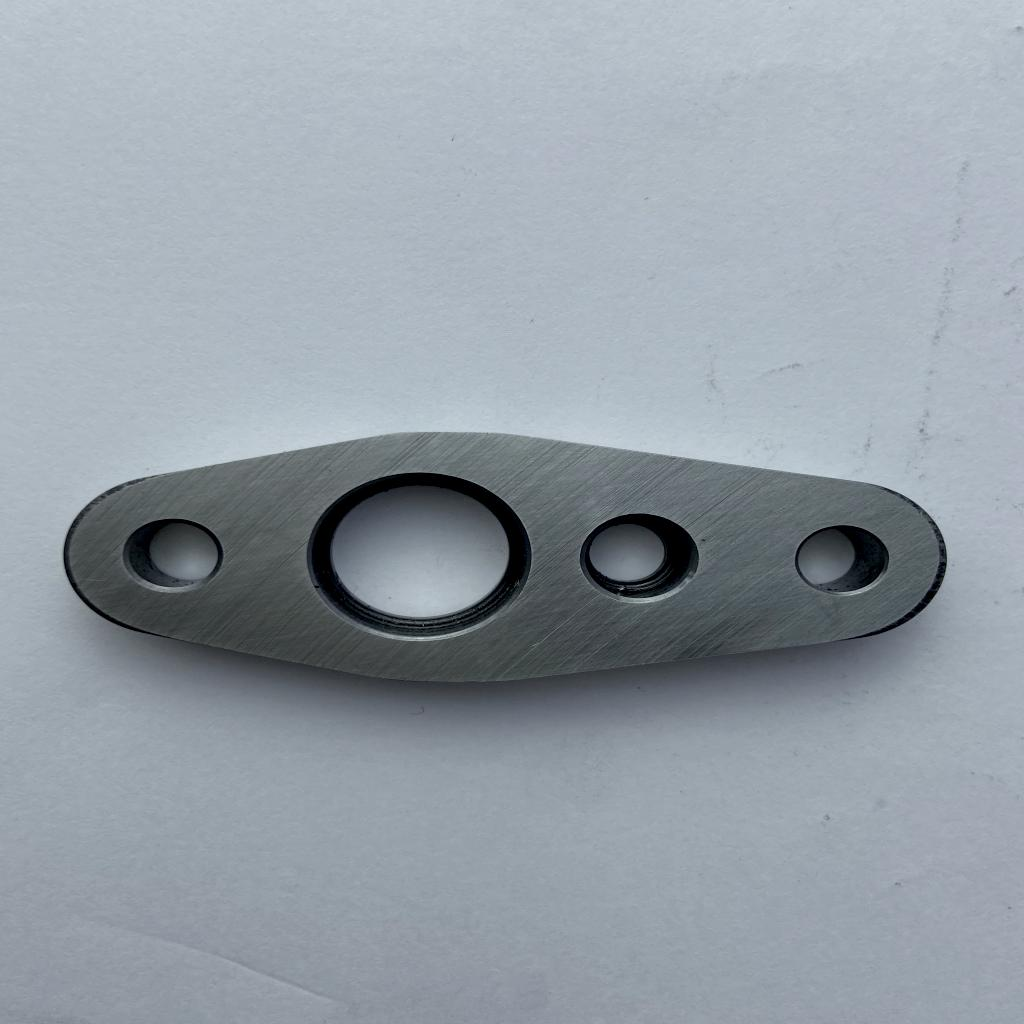chap: (696, 536, 712, 545)
